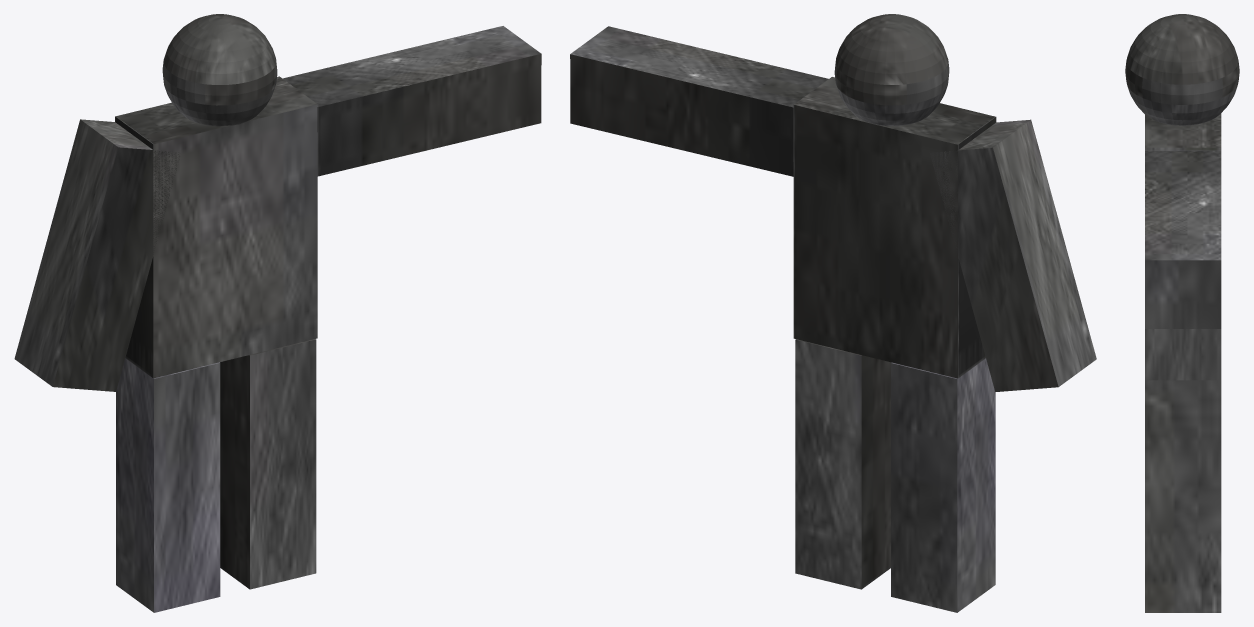
File: enemy.obj
3 renders of one model, left to right at view 1: azimuth 30°, elevation 25°; view 2: azimuth 150°, elevation 25°; view 3: azimuth 270°, elevation 25°, orthographic.
Visible parts, largest first — view 1: Cube; view 2: Cube; view 3: Cube.
Part boxes in pixels (<box>): Cube: <box>14,14,541,612</box>; Cube: <box>570,14,1096,612</box>; Cube: <box>1125,14,1239,612</box>.
Size of the model in its own units: 4.5 by 4.92 by 0.9179.
5 materials, 5 textured.
